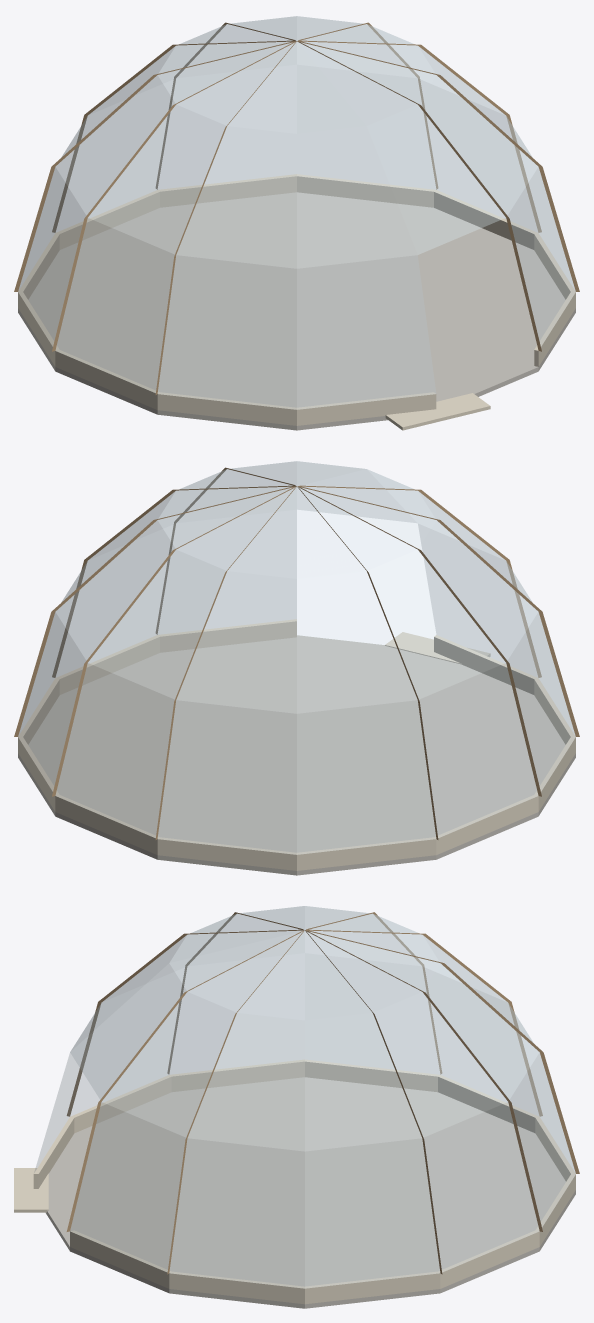
File: tropical-dome.lod1.glb
The picture shows the model from 3 angles, top to bottom: view 1: azimuth 30°, elevation 25°; view 2: azimuth 150°, elevation 25°; view 3: azimuth 270°, elevation 25°; orthographic projection. The views are drawn at different scales.
Bounding box in the file's own units: 11.16 × 5.9 × 11.48.
